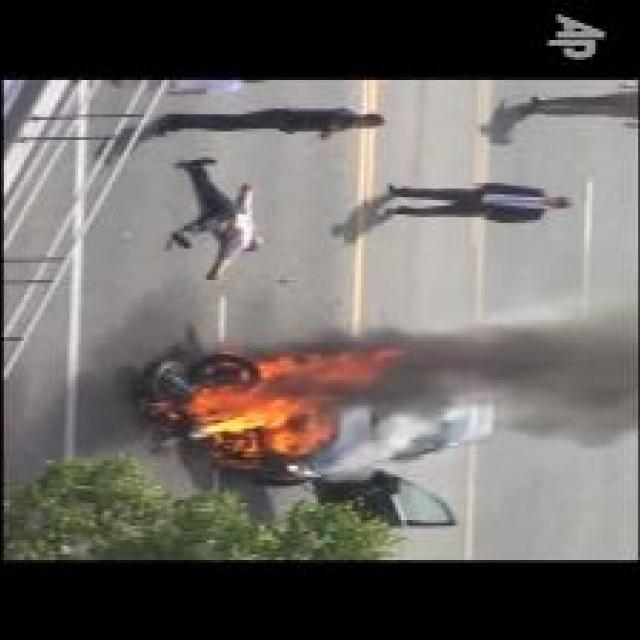Fire: (183, 348, 400, 452)
